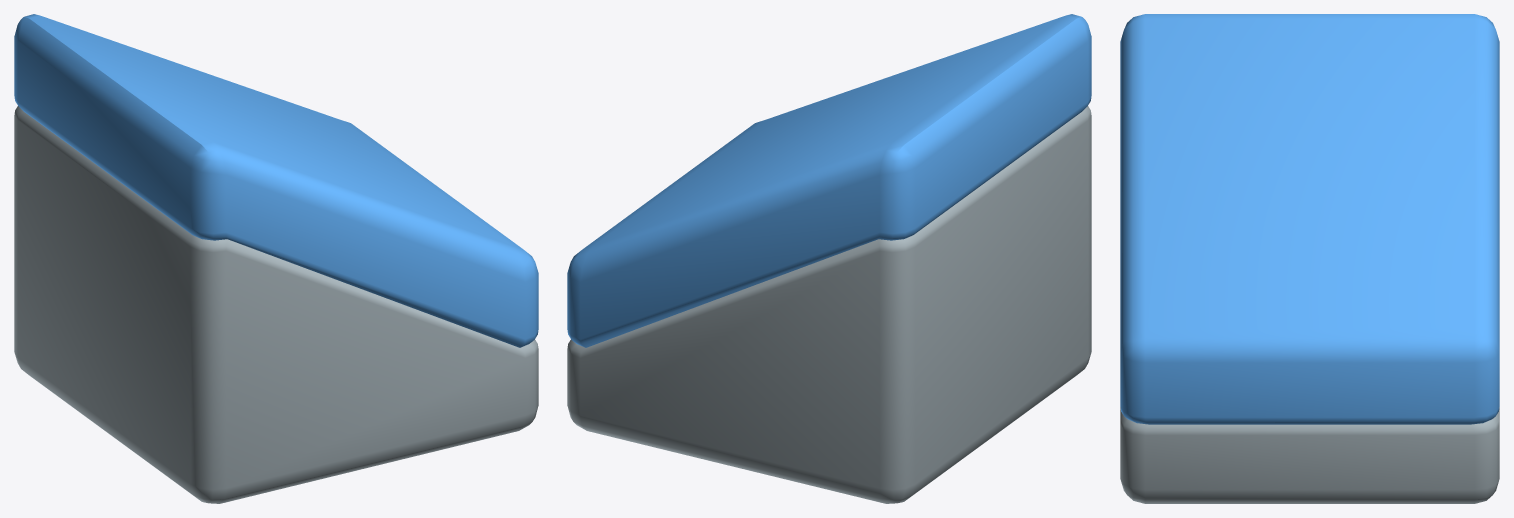
File: tileSlopeLowHigh_teamBlue-col.glb
3 views of the same model, side by side, from view 1: azimuth 30°, elevation 25°; view 2: azimuth 150°, elevation 25°; view 3: azimuth 270°, elevation 25° (orthographic). The views are drawn at different scales.
Visible parts, largest first — view 1: tileSlopeLowHigh_teamBlue-col; view 2: tileSlopeLowHigh_teamBlue-col; view 3: tileSlopeLowHigh_teamBlue-col.
Boxes of the visible parts, x1,y1,x2,y2 form: tileSlopeLowHigh_teamBlue-col: (14,14,538,503); tileSlopeLowHigh_teamBlue-col: (567,14,1091,503); tileSlopeLowHigh_teamBlue-col: (1120,14,1499,503).
Bounding box in the file's own units: 2 × 2 × 2.
